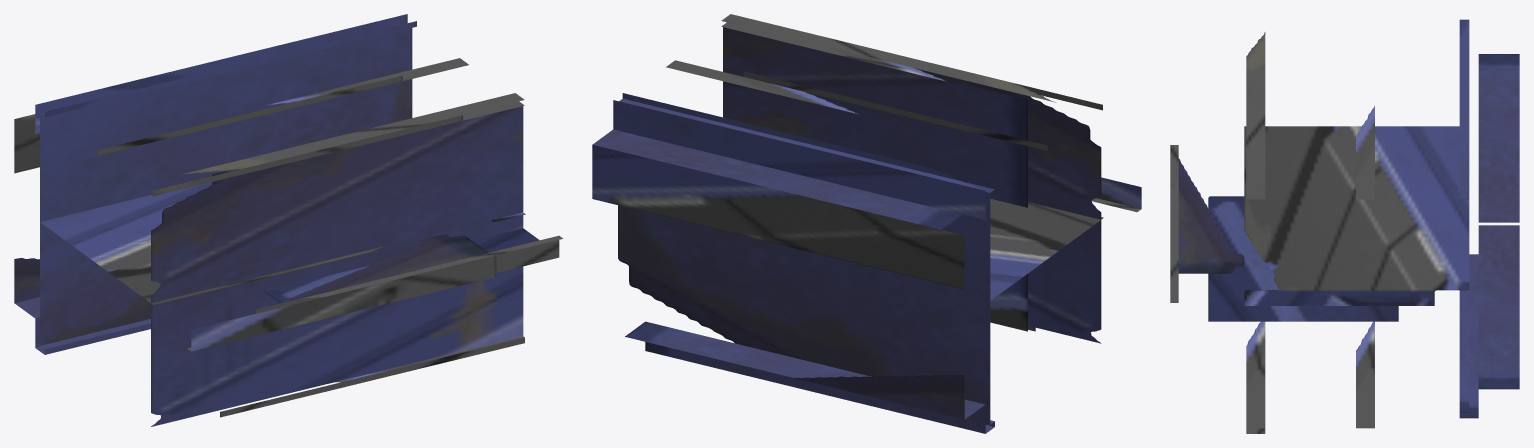
3 views of the same model, side by side, from view 1: azimuth 30°, elevation 25°; view 2: azimuth 150°, elevation 25°; view 3: azimuth 270°, elevation 25° (orthographic).
Size of the model in its own units: 1.24 by 0.774 by 1.02.
